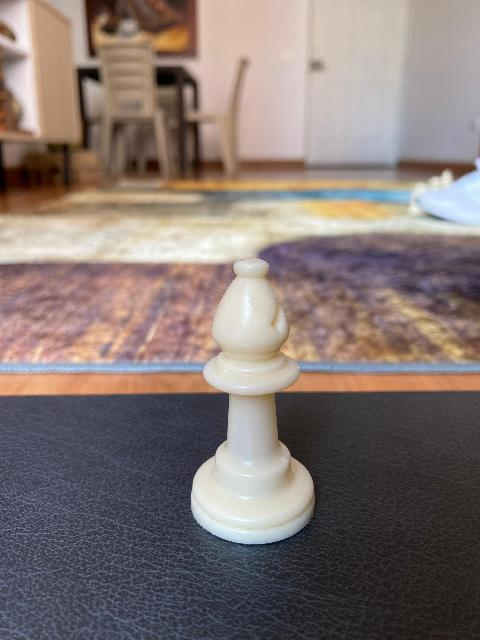white-bishop: (190, 257, 316, 545)
